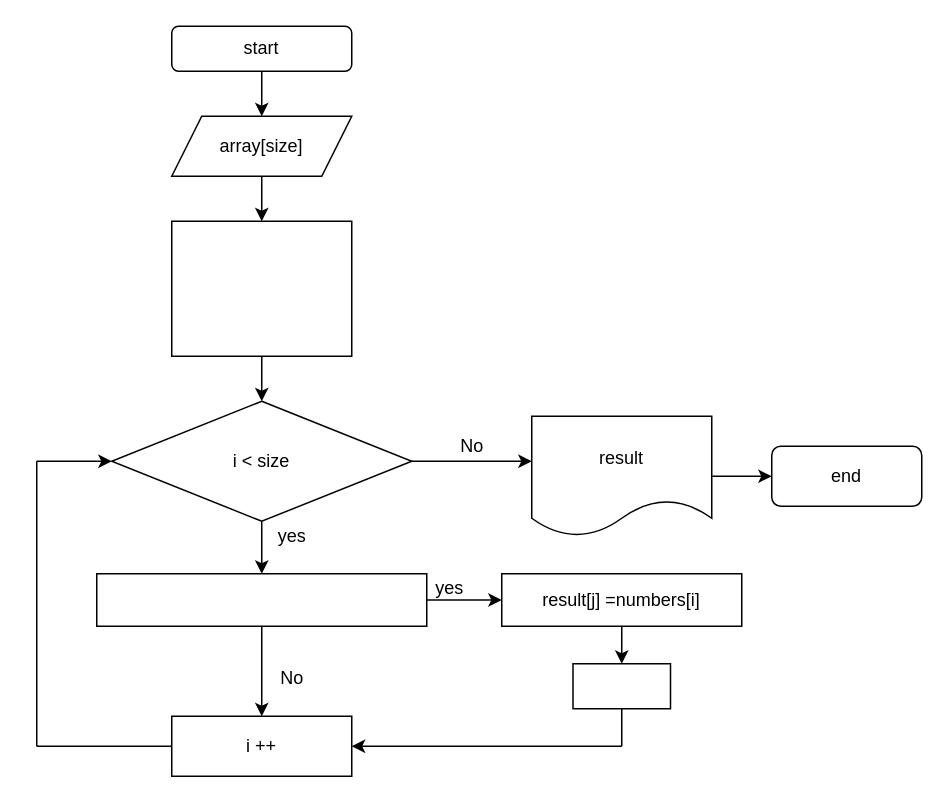
This 948x803 diagram has some shape labels left out. The shapes that lost their labels are listed below. From the top down, each one's box as (x1, y1, x2, y2) in pixels, then its label:
(170, 220, 352, 356): result[size] len= 3 i = 0 j = 0
(95, 572, 427, 626): array[i] < len + 1
(572, 662, 670, 709): j ++
